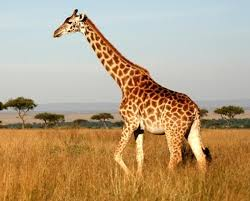Jirafa: (50, 4, 161, 104)
